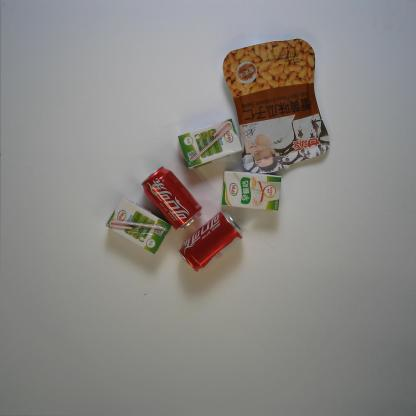Dried Fruit: (222, 37, 330, 174)
Drink: (140, 165, 203, 231), (178, 210, 244, 273)
Milk: (104, 197, 172, 255), (178, 118, 242, 170), (220, 170, 282, 212)
